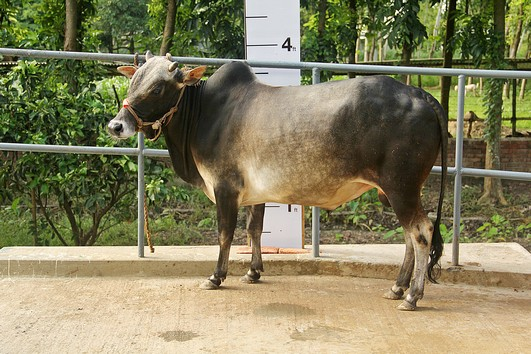cow: (101, 44, 456, 317)
